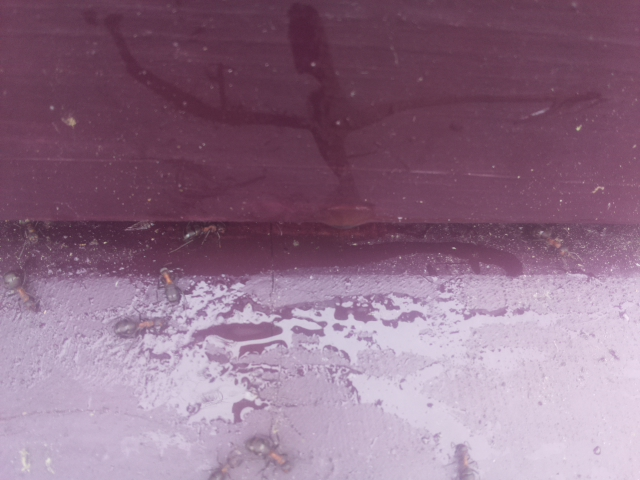ant: (238, 424, 297, 478), (0, 260, 45, 321), (522, 221, 580, 265), (107, 311, 170, 342), (179, 218, 231, 246), (204, 447, 240, 480), (156, 264, 183, 307), (452, 439, 474, 480), (14, 215, 44, 245)
